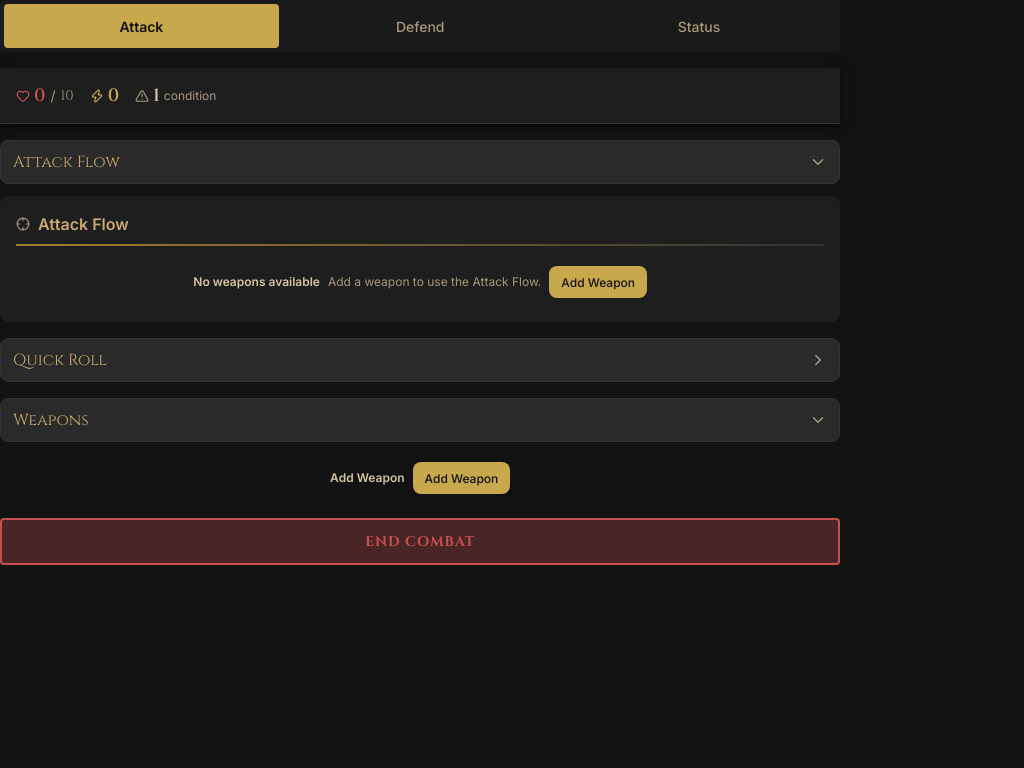
it: CombatPage condition tooltips › pressing Escape dismisses the condition tooltip
Note: Switch to Status mode to see the CombatDashboard
Click the tab "Status": coordinates (699, 26) [562, 4, 836, 48]
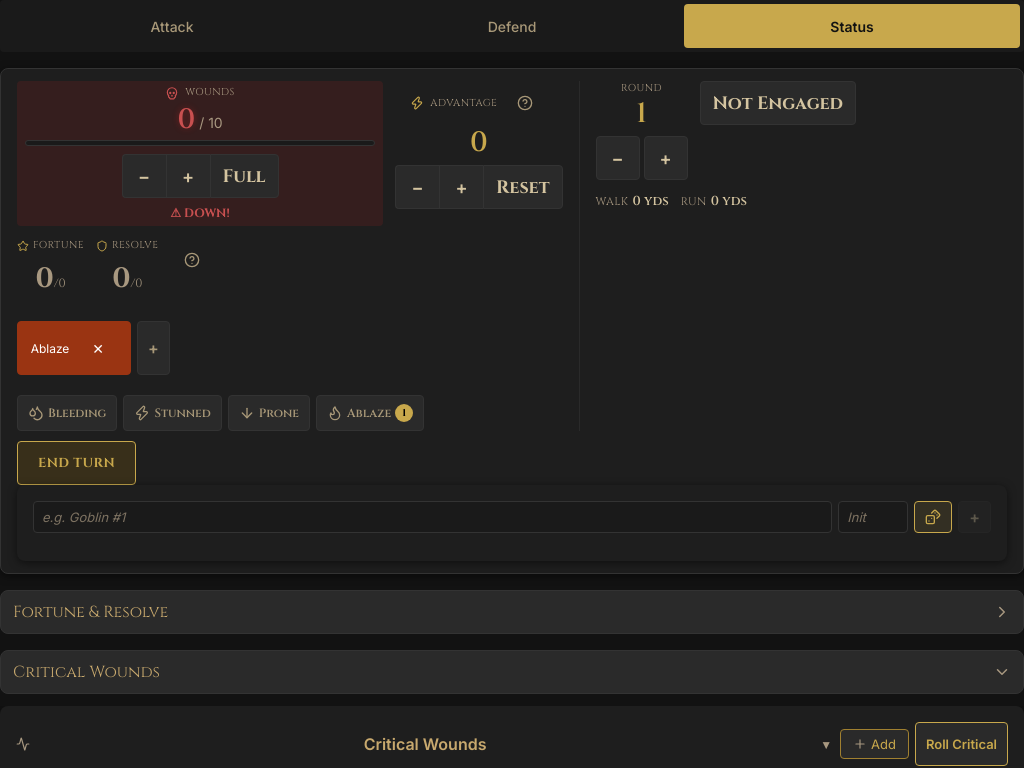
Click the button with aria-label "Info for Ablaze": coordinates (50, 348) [28, 326, 72, 370]
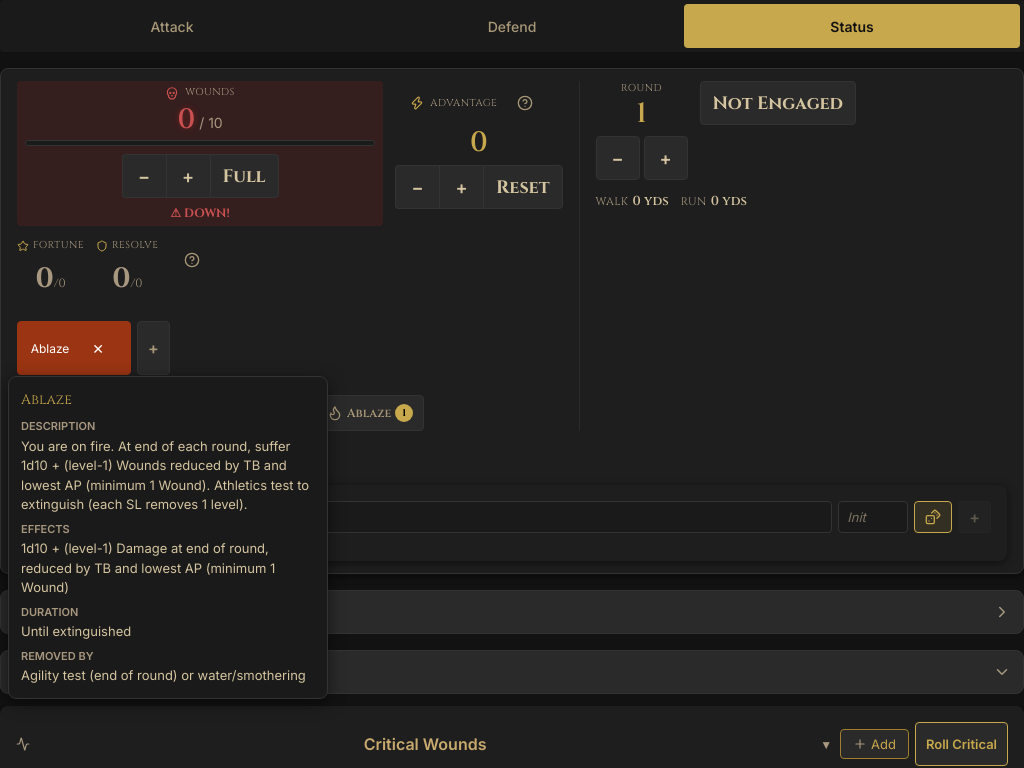
Now the tooltip is shown, box [8, 376, 328, 698]
Press Escape
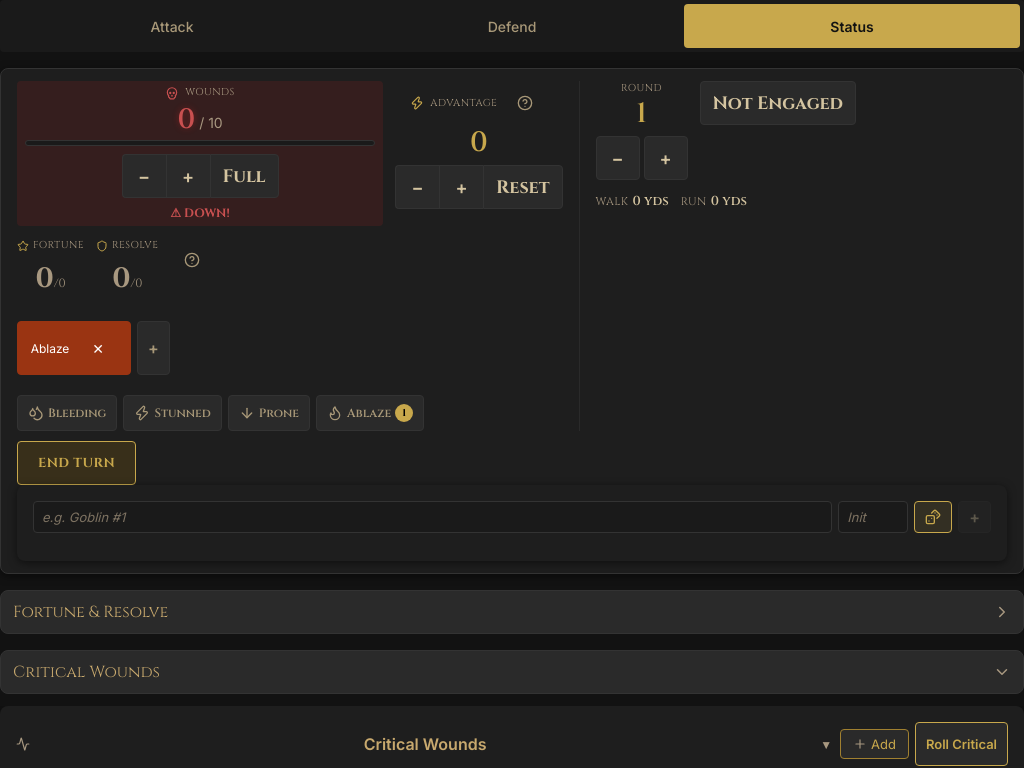
Now the tooltip is gone
